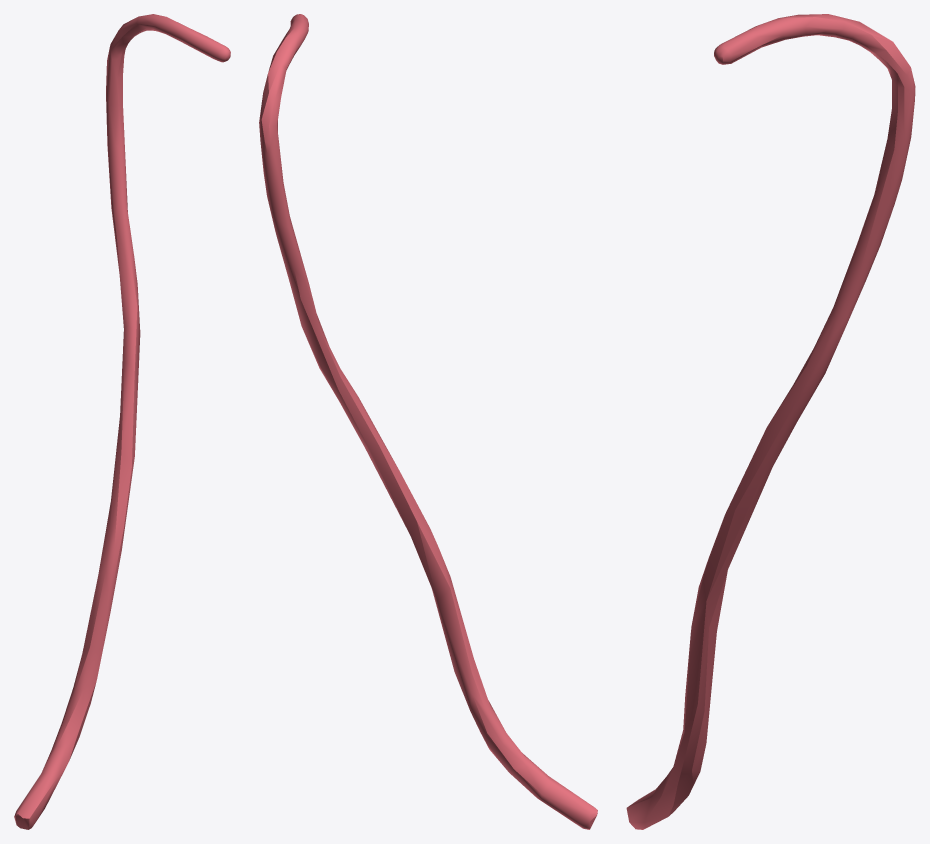
The model's file is fma14828_fj3399.glb.
3 views of the same model, side by side, from view 1: azimuth 30°, elevation 25°; view 2: azimuth 150°, elevation 25°; view 3: azimuth 270°, elevation 25° (orthographic). The views are drawn at different scales.
Visible parts, largest first — view 1: FMA14828_FJ3399; view 2: FMA14828_FJ3399; view 3: FMA14828_FJ3399.
Part boxes in pixels (x1=…): FMA14828_FJ3399: x1=14, y1=14, x2=230, y2=829; FMA14828_FJ3399: x1=259, y1=14, x2=597, y2=829; FMA14828_FJ3399: x1=626, y1=14, x2=915, y2=829.
Size of the model in its own units: 0.0322 by 0.0894 by 0.0248.
